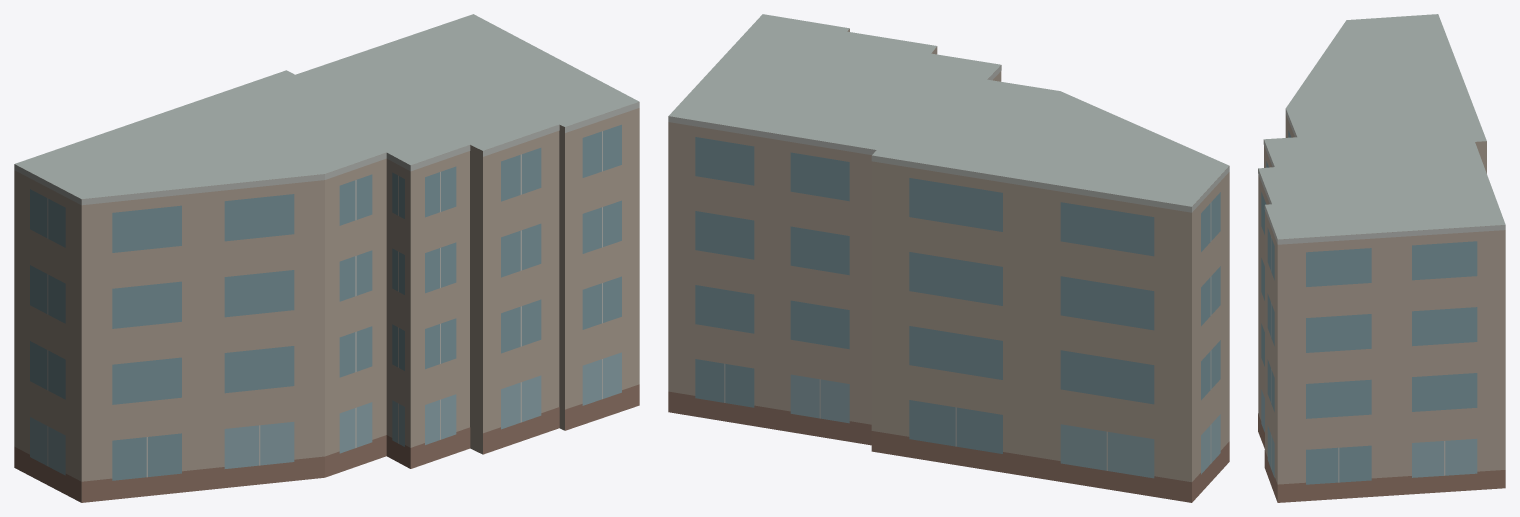
Rendered from survey-upis-32752590.glb.
3 views of the same model, side by side, from view 1: azimuth 30°, elevation 25°; view 2: azimuth 150°, elevation 25°; view 3: azimuth 270°, elevation 25° (orthographic). The views are drawn at different scales.
Visible parts, largest first — view 1: survey-upis-32752590.tmp; view 2: survey-upis-32752590.tmp; view 3: survey-upis-32752590.tmp.
Part boxes in pixels (left/top/right/bottom): survey-upis-32752590.tmp: left=14, top=14, right=639, bottom=502; survey-upis-32752590.tmp: left=668, top=14, right=1229, bottom=502; survey-upis-32752590.tmp: left=1258, top=14, right=1505, bottom=502.
Bounding box in the file's own units: 22.41 × 12.2 × 10.4.
